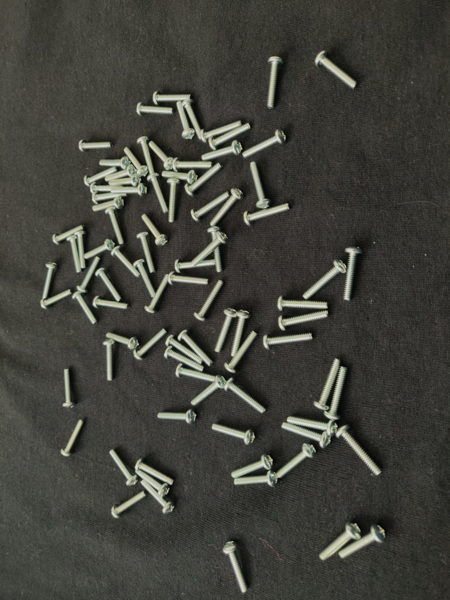longscrew: (336, 424, 383, 478), (338, 523, 387, 561), (319, 522, 364, 563), (302, 259, 347, 300), (314, 49, 359, 90), (224, 377, 267, 415), (313, 358, 342, 412), (276, 443, 318, 480), (223, 541, 250, 594), (281, 422, 332, 450), (177, 329, 214, 367), (324, 367, 350, 421), (210, 188, 245, 228), (184, 163, 224, 198), (242, 129, 288, 159), (225, 331, 257, 374), (191, 231, 229, 267), (194, 280, 225, 324), (190, 191, 231, 224), (140, 479, 176, 516), (208, 122, 251, 152), (190, 374, 228, 407), (165, 334, 204, 366), (286, 415, 339, 438), (342, 246, 364, 301), (164, 345, 206, 373), (244, 203, 291, 228), (277, 310, 330, 332), (135, 458, 175, 487), (133, 328, 168, 361), (230, 454, 274, 480), (109, 449, 139, 487), (250, 161, 273, 210), (144, 274, 171, 315), (201, 119, 243, 145), (135, 469, 171, 499), (214, 308, 238, 353), (263, 330, 314, 351), (211, 423, 257, 446), (230, 309, 252, 357), (111, 491, 147, 520), (111, 246, 142, 279), (94, 267, 123, 302), (133, 259, 158, 299), (181, 98, 204, 141), (60, 419, 85, 458), (277, 294, 331, 312), (267, 56, 285, 110), (76, 257, 102, 294), (141, 214, 169, 248), (72, 290, 99, 325), (147, 173, 170, 214), (201, 140, 243, 162), (136, 231, 157, 274), (207, 226, 226, 273), (105, 206, 126, 246), (234, 469, 278, 488), (175, 364, 219, 383), (149, 140, 175, 171), (136, 136, 156, 176), (123, 146, 148, 178), (83, 166, 118, 188), (177, 101, 196, 140), (84, 238, 116, 261), (52, 225, 86, 246), (40, 289, 73, 310), (157, 408, 197, 425), (41, 262, 59, 299), (66, 235, 83, 274), (175, 258, 216, 274), (173, 157, 214, 173), (106, 332, 140, 351), (168, 271, 211, 286), (167, 178, 181, 224), (104, 164, 137, 183), (153, 90, 192, 106), (61, 368, 76, 409), (92, 296, 131, 311), (136, 102, 175, 117), (161, 170, 199, 185), (103, 339, 116, 382), (110, 183, 147, 198), (92, 197, 125, 213), (91, 191, 128, 205), (78, 139, 114, 153), (74, 231, 87, 269), (98, 156, 131, 170), (90, 182, 125, 195), (108, 174, 142, 187)
